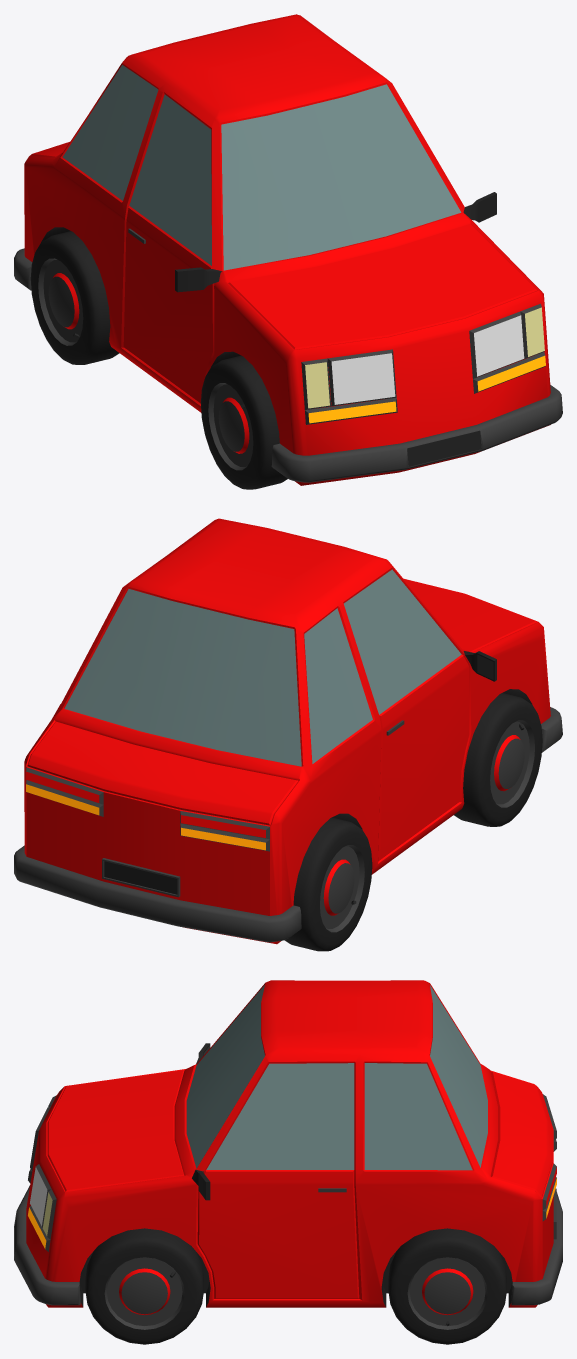
The model's file is CartoonCar_A01.fbx.
3 views of the same model, one above another, from view 1: azimuth 30°, elevation 25°; view 2: azimuth 150°, elevation 25°; view 3: azimuth 270°, elevation 25° (orthographic). The views are drawn at different scales.
Parts seen in each view (by area): view 1: carrosserie, elements, capot_AV, door_R, vitre_porte, Tire_Back_R_1, Tire_Front_R_1; view 2: carrosserie, elements, coffre_AR, door_R, vitre_porte, Tire_Front_R_1, Tire_Back_R_1, capot_AV; view 3: carrosserie, elements, door_L, capot_AV, vitre_porte_2, Tire_Back_L_1, Tire_Front_L_1, coffre_AR.
Part boxes in pixels (x1,y1,x2,y2): carrosserie: (24,14,550,485); elements: (14,65,562,482); capot_AV: (228,224,536,349); door_R: (123,206,214,403); vitre_porte: (129,94,211,265); Tire_Back_R_1: (30,231,119,364); Tire_Front_R_1: (200,355,287,489); carrosserie: (24,518,550,944); elements: (14,589,562,942); coffre_AR: (27,721,298,825); door_R: (378,654,469,860); vitre_porte: (344,569,461,714); Tire_Front_R_1: (454,693,542,826); Tire_Back_R_1: (284,817,372,951); capot_AV: (404,579,536,652); carrosserie: (26,980,553,1307); elements: (14,985,562,1305); door_L: (197,1170,359,1298); capot_AV: (47,1070,184,1191); vitre_porte_2: (206,1063,354,1169); Tire_Back_L_1: (388,1228,506,1344); Tire_Front_L_1: (85,1228,203,1344); coffre_AR: (491,1071,552,1198).
Size of the model in its own units: 187 by 171 by 313.
